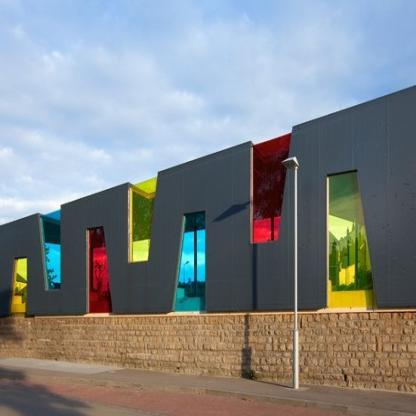Building Outline: (0, 84, 416, 393)
Dont: (282, 156, 299, 390)
Facade: (0, 90, 415, 394)
Floor Slab: (0, 309, 416, 325)
Ground Floor: (0, 90, 416, 317)
Window: (327, 170, 378, 308), (250, 132, 292, 244), (171, 211, 206, 312), (128, 176, 157, 263), (87, 227, 113, 314), (38, 208, 60, 291), (8, 256, 28, 316)
